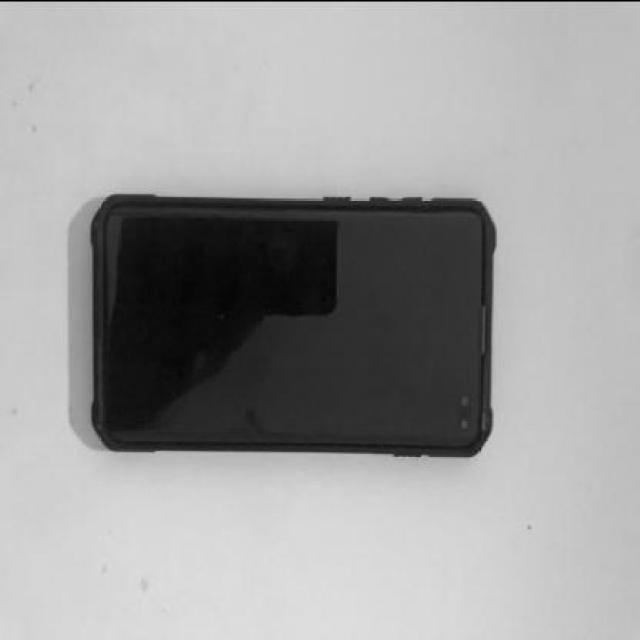fake: (92, 190, 496, 456)
